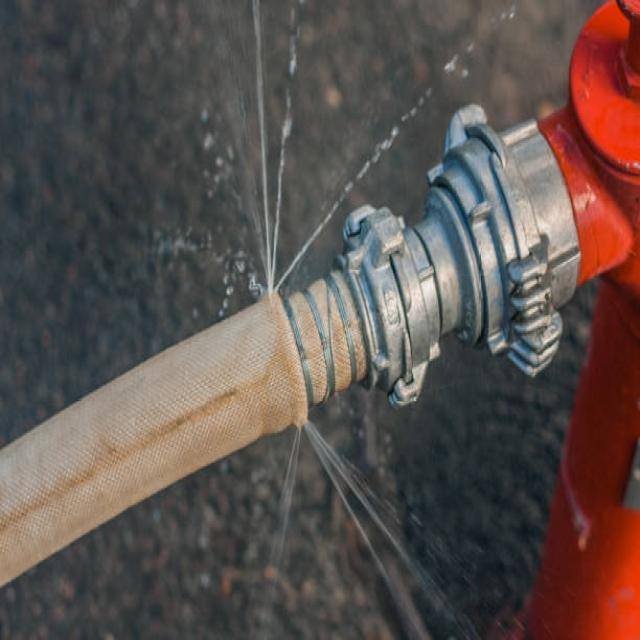pipe burst: (219, 0, 516, 313), (258, 408, 553, 637)
